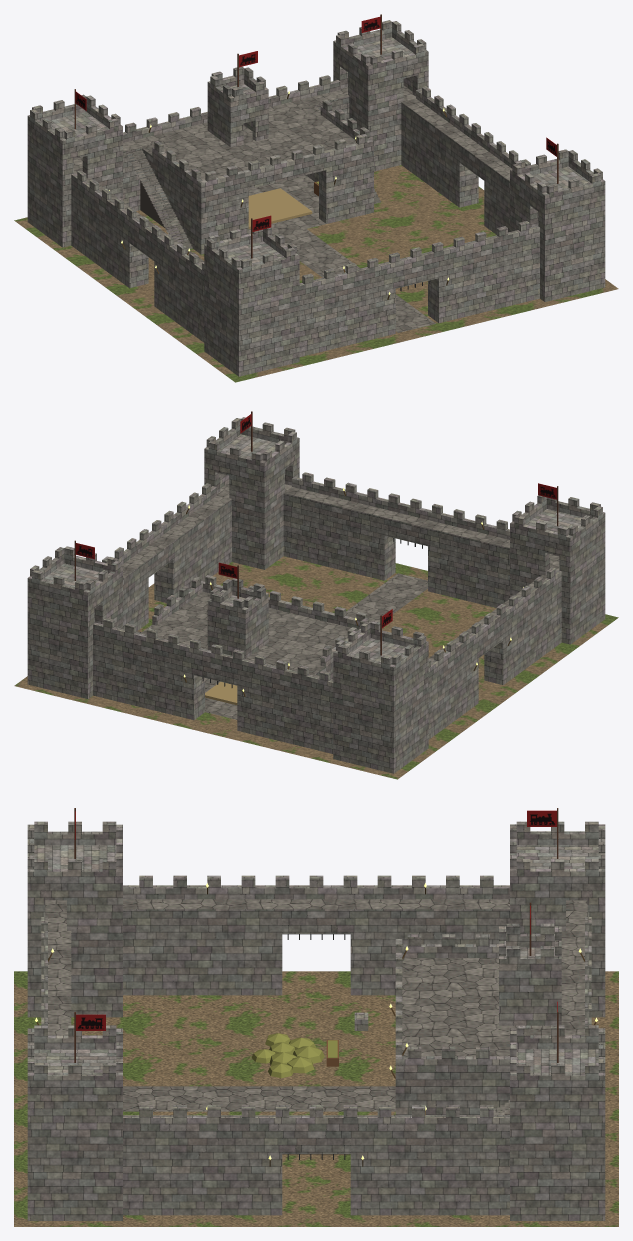
File: draci_hrad.glb
3 views of the same model, one above another, from view 1: azimuth 30°, elevation 25°; view 2: azimuth 150°, elevation 25°; view 3: azimuth 270°, elevation 25° (orthographic). The views are drawn at different scales.
Visible parts, largest first — view 1: sin, zem, zed_00, vez_00, vez_01, zed_03, vez_03, vez_02, zed_01, sin_vrch, zed_02, schody_01 (+2 smaller); view 2: zem, zed_02, zed_00, vez_03, vez_02, zed_03, vez_00, vez_01, sin, zed_01, sin_vrch, zed_vrch_00 (+1 smaller); view 3: zem, zed_01, zed_03, vez_01, vez_02, sin, vez_00, vez_03, sin_vrch, zed_vrch_03, zed_vrch_00, zed_vrch_02 (+5 smaller).
Part boxes in pixels (x1,y1,x2,y2): sin: (142, 51, 373, 254); zem: (14, 165, 618, 382); zed_00: (299, 221, 539, 356); vez_00: (204, 215, 299, 376); vez_01: (510, 137, 605, 301); zed_03: (71, 170, 204, 342); vez_03: (27, 89, 122, 247); vez_02: (333, 14, 428, 171); zed_01: (401, 86, 530, 234); sin_vrch: (141, 105, 355, 180); zed_02: (123, 75, 349, 210); schody_01: (125, 147, 192, 249); zem: (14, 556, 618, 779); zed_02: (93, 618, 333, 753); zed_00: (283, 472, 509, 607); vez_03: (333, 609, 428, 773); vez_02: (27, 540, 122, 698); zed_03: (428, 567, 561, 739); vez_00: (510, 483, 605, 644); vez_01: (204, 411, 299, 569); sin: (152, 562, 370, 719); zed_01: (102, 483, 231, 630); sin_vrch: (141, 591, 358, 675); zed_vrch_00: (284, 487, 509, 547); zem: (14, 971, 618, 1226); zed_01: (123, 1105, 509, 1215); zed_03: (123, 875, 509, 995); vez_01: (27, 1012, 122, 1220); vez_02: (510, 1001, 605, 1220); sin: (390, 902, 561, 1115); vez_00: (27, 808, 122, 1017); vez_03: (510, 808, 605, 1017); sin_vrch: (402, 958, 550, 1056); zed_vrch_03: (123, 899, 509, 909); zed_vrch_00: (48, 931, 71, 1035); zed_vrch_02: (561, 931, 584, 1035).
Bounding box in the file's own units: 44.4 × 15.9 × 44.4.
Materials: 2 (1 with a texture image).
